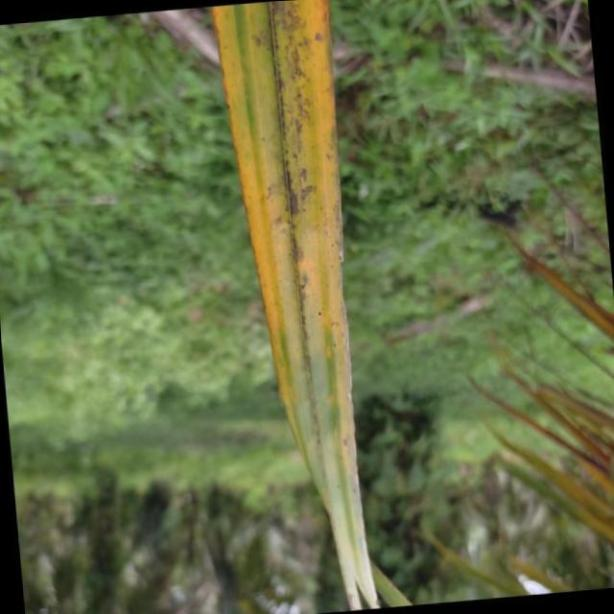Megnesium: (211, 0, 383, 612)
